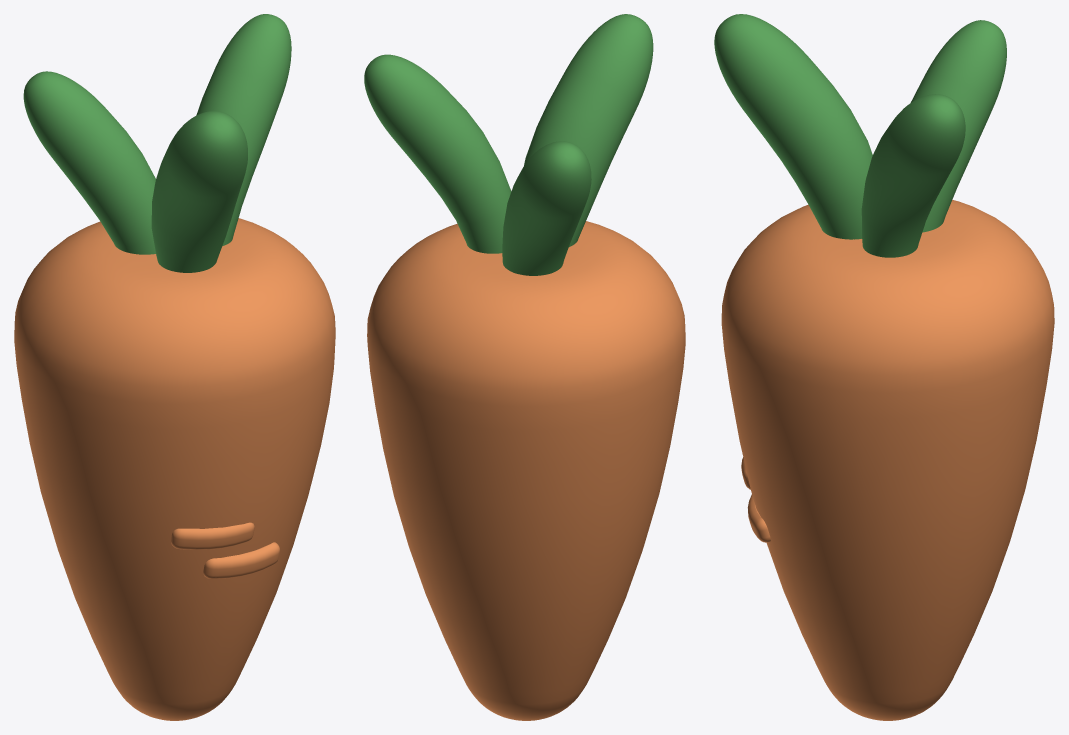
The model's file is Carrot_big.fbx.
3 renders of one model, left to right at view 1: azimuth 30°, elevation 25°; view 2: azimuth 150°, elevation 25°; view 3: azimuth 270°, elevation 25°, orthographic. The views are drawn at different scales.
Visible parts, largest first — view 1: Carrot_big; view 2: Carrot_big; view 3: Carrot_big.
Boxes of the visible parts, left/top/right/bottom form: Carrot_big: left=14, top=14, right=335, bottom=720; Carrot_big: left=364, top=14, right=685, bottom=720; Carrot_big: left=714, top=14, right=1054, bottom=720.
Bounding box in the file's own units: 1.6 × 3.61 × 1.63.
